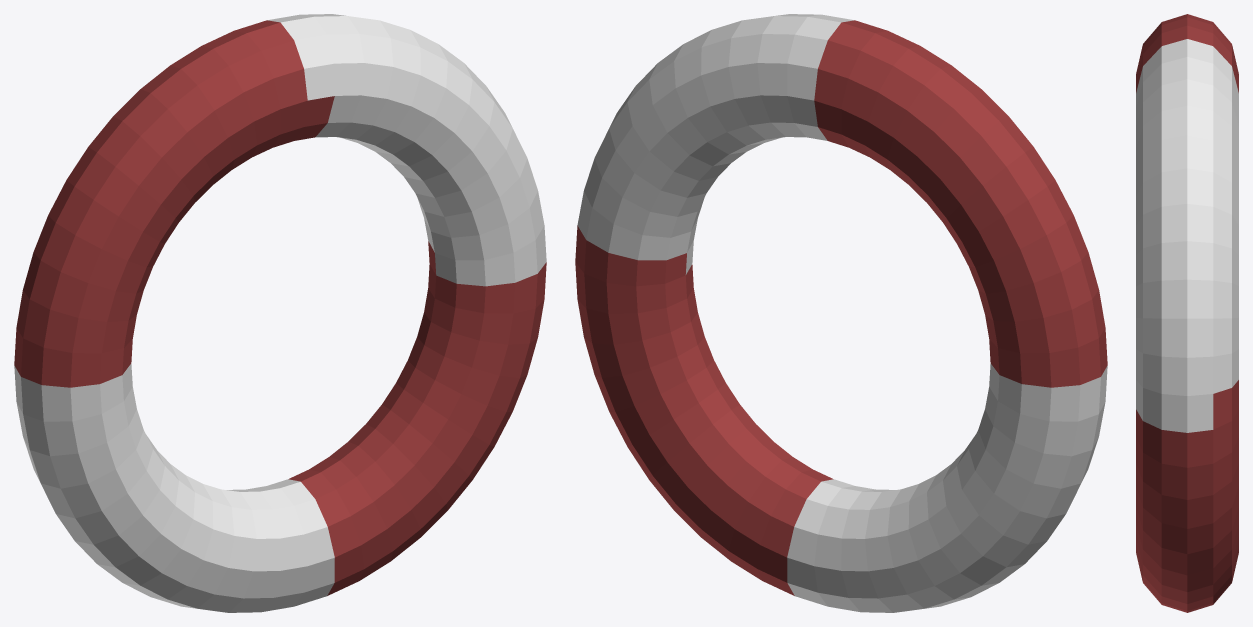
File: life-belt.dae
3 views of the same model, side by side, from view 1: azimuth 30°, elevation 25°; view 2: azimuth 150°, elevation 25°; view 3: azimuth 270°, elevation 25° (orthographic). The views are drawn at different scales.
Parts seen in each view (by area): view 1: Torus_004; view 2: Torus_004; view 3: Torus_004.
Boxes of the visible parts, left/top/right/bottom form: Torus_004: left=14, top=14, right=546, bottom=612; Torus_004: left=575, top=14, right=1107, bottom=612; Torus_004: left=1136, top=14, right=1238, bottom=612.
Size of the model in its own units: 0.273 by 0.0496 by 0.2925.
